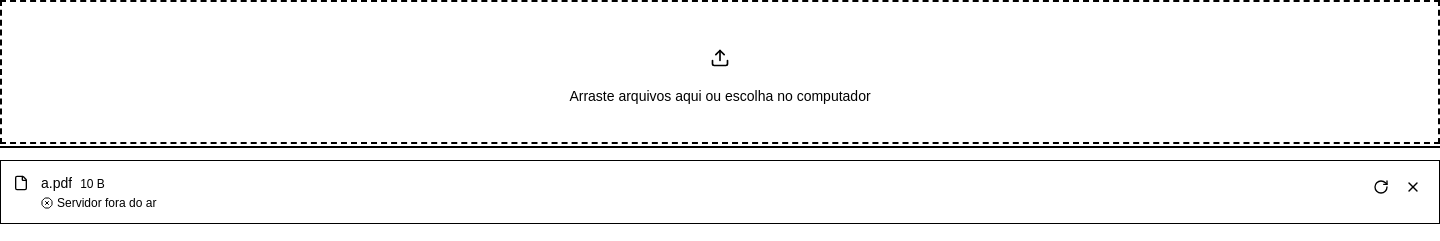
Scenario: FileUpload: erro e tentar de novo › erro mostra a mensagem, e tentar de novo reenvia o mesmo arquivo
Earlier steps of the test are not shown.
Expected: the text "Servidor fora do ar" is shown, [57,195,156,211]
Click the button named "Tentar de novo a.pdf" at (1381, 187), box [1367,173,1395,201]
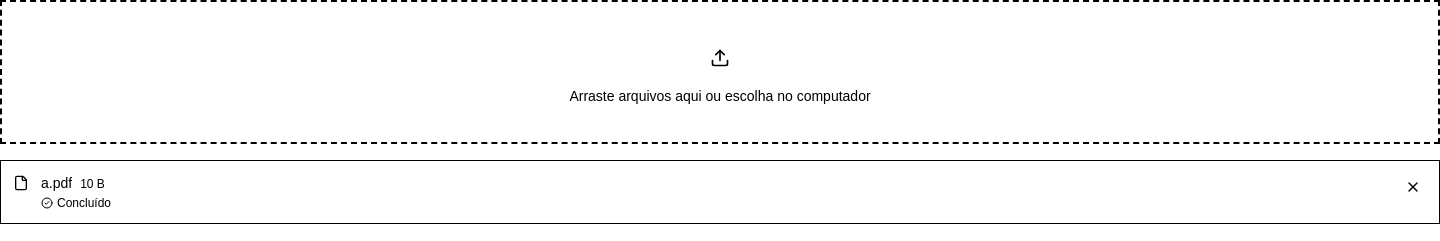
Now the text "Servidor fora do ar" is gone
Now the text "Concluído" is shown, box [41,196,111,210]
